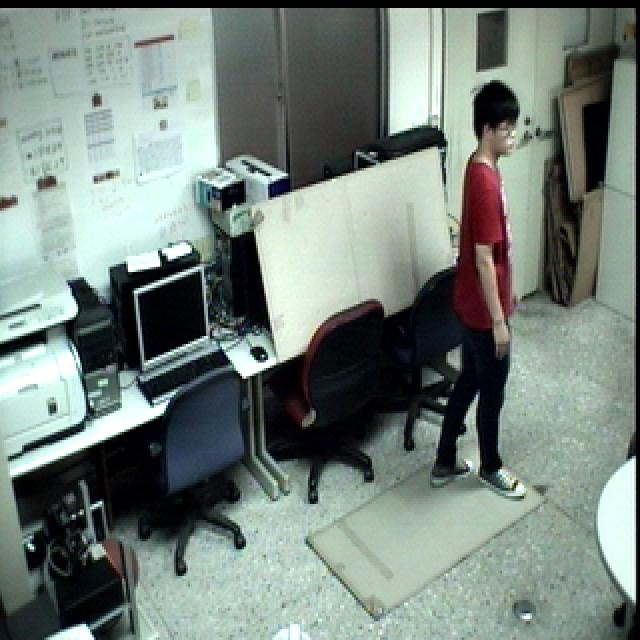stand: (429, 71, 537, 512)
